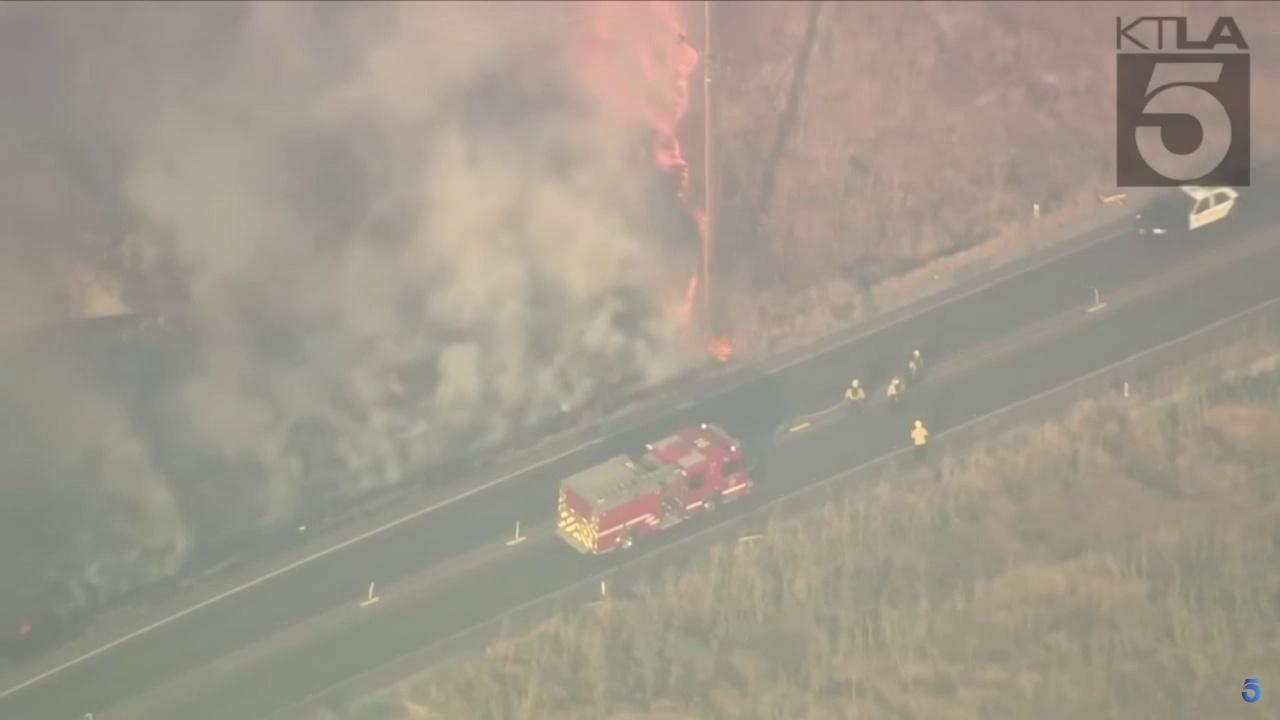fire: (570, 0, 700, 204), (687, 211, 716, 277), (674, 269, 699, 327), (702, 334, 735, 363), (18, 624, 34, 635)
smoke: (1, 0, 706, 633)
